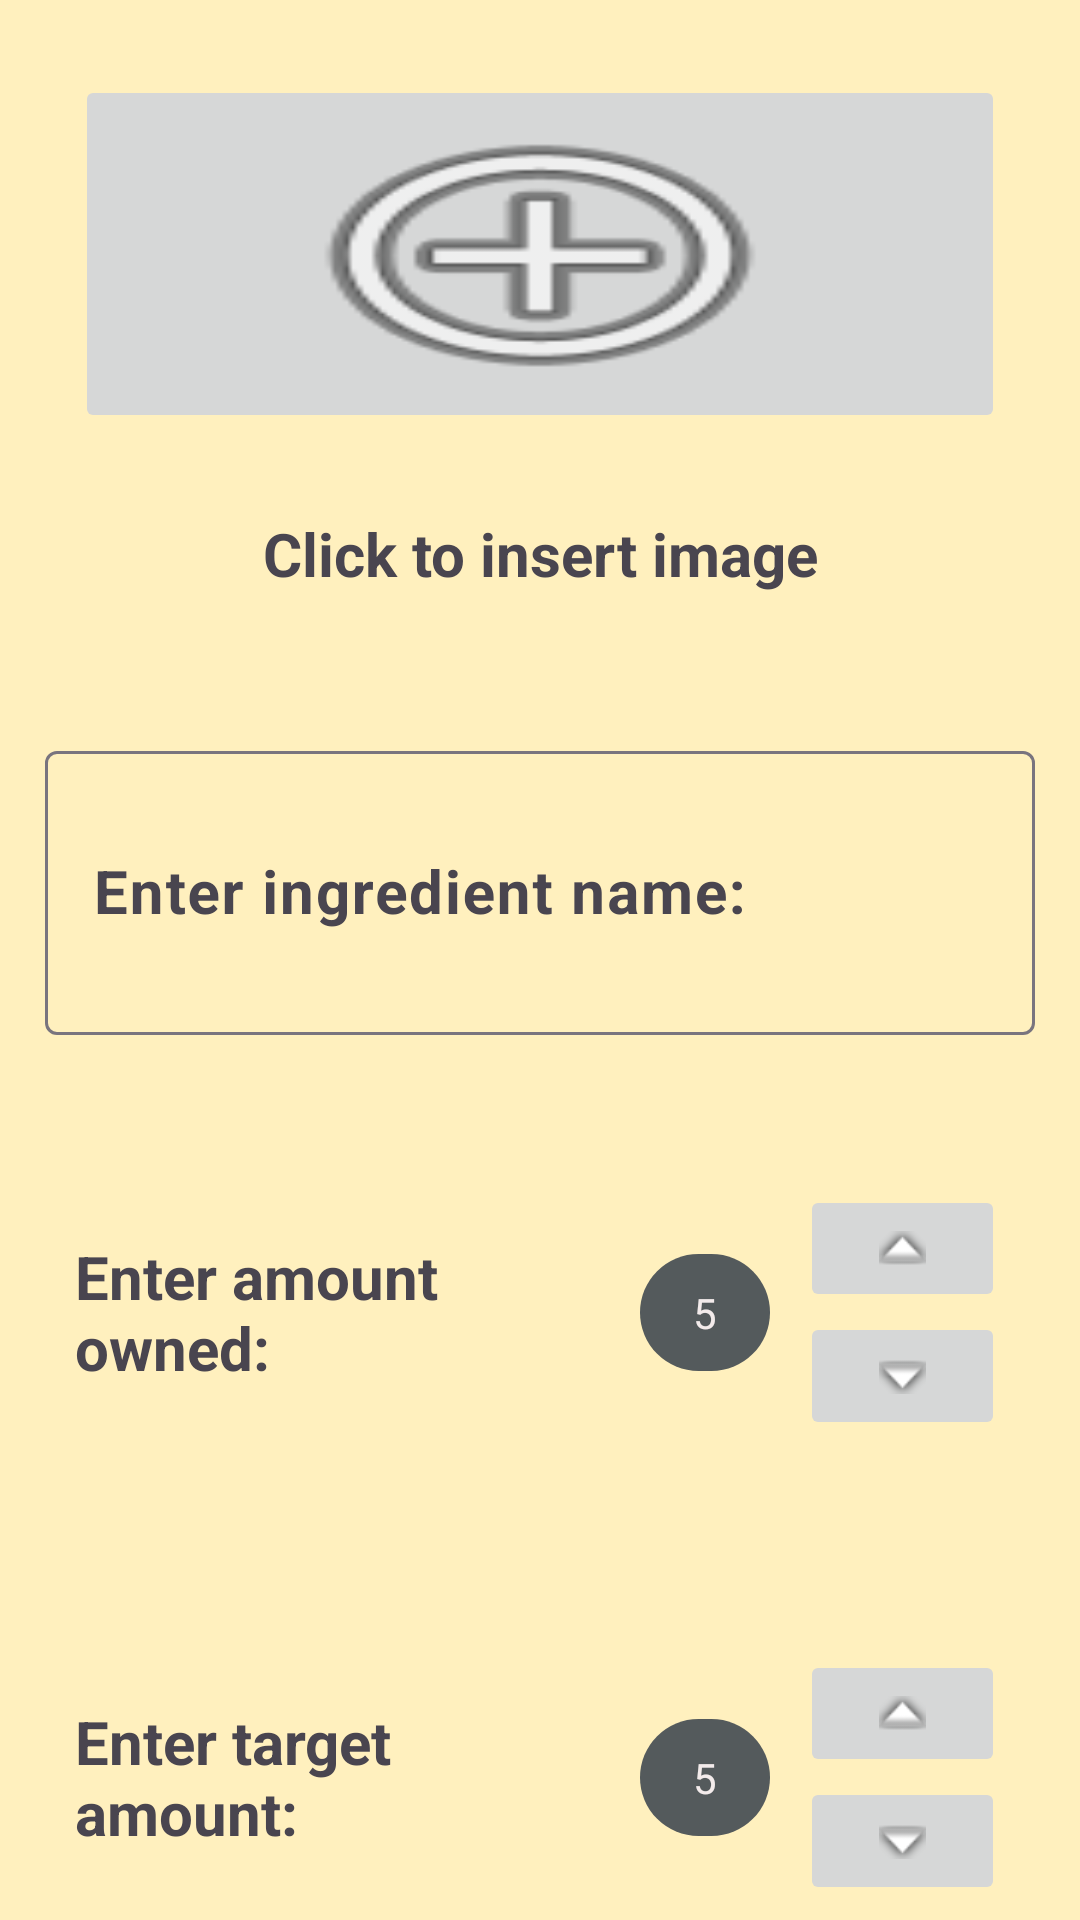

Icon click points for this 1080*1920 phone screenshot, format [x,y]:
arrow down float: [902,1376], [902,1841]
arrow up float: [902,1248], [902,1713]
